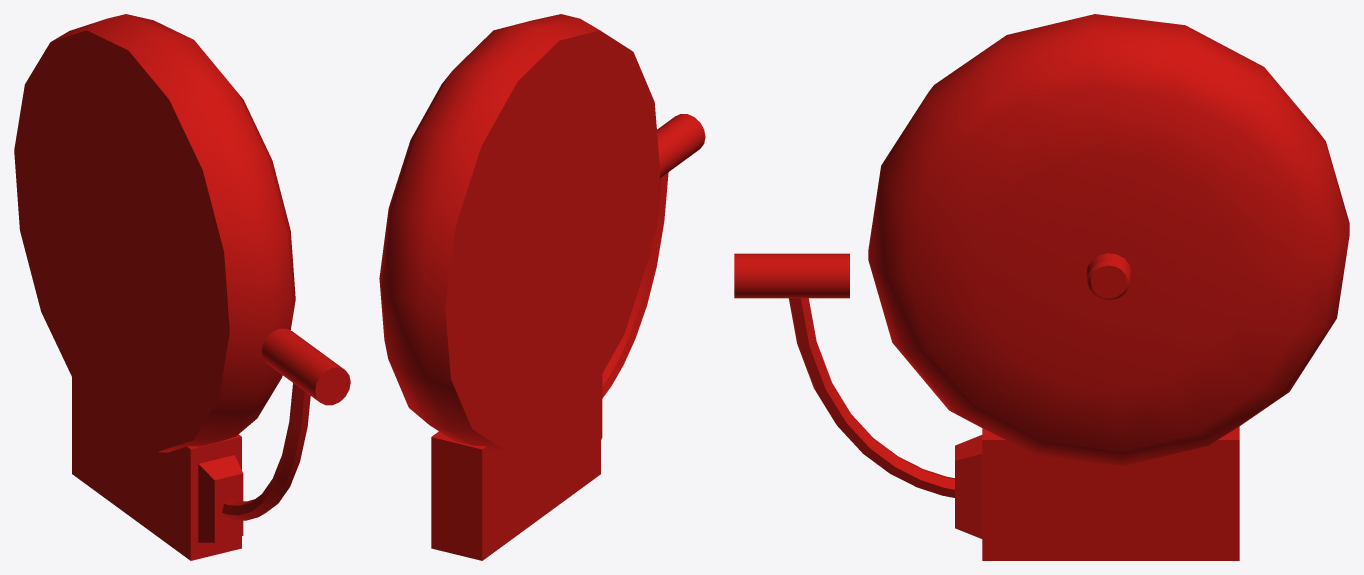
The model's file is Bell_l.fbx.
The picture shows the model from 3 angles, left to right: view 1: azimuth 30°, elevation 25°; view 2: azimuth 150°, elevation 25°; view 3: azimuth 270°, elevation 25°; orthographic projection. The views are drawn at different scales.
Visible parts, largest first — view 1: Cylinder.022; view 2: Cylinder.022; view 3: Cylinder.022.
Part boxes in pixels (x1,y1,x2,y2): Cylinder.022: (14,14,350,560); Cylinder.022: (379,14,705,560); Cylinder.022: (734,14,1349,560).
Size of the model in its own units: 15.08 by 69.56 by 64.94.
